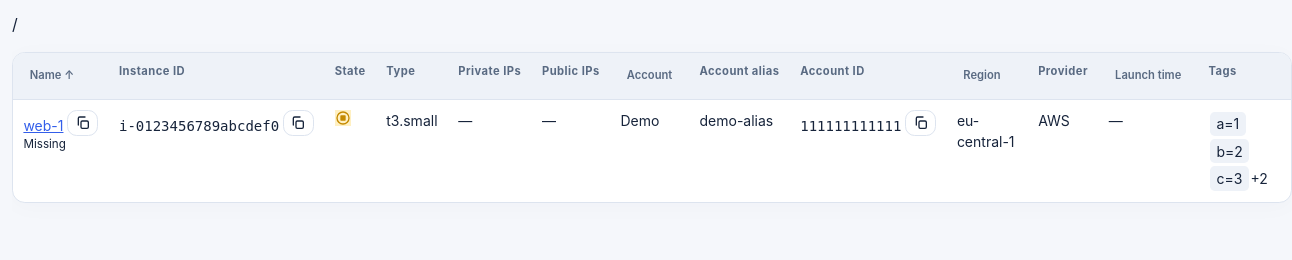
it: copy success=false keeps row navigation untouched
The width and height of the screenshot is (1292, 260).
Click the button named "Copy i-0123456789abcdef0".
click(298, 123)  # box [283,110,314,136]
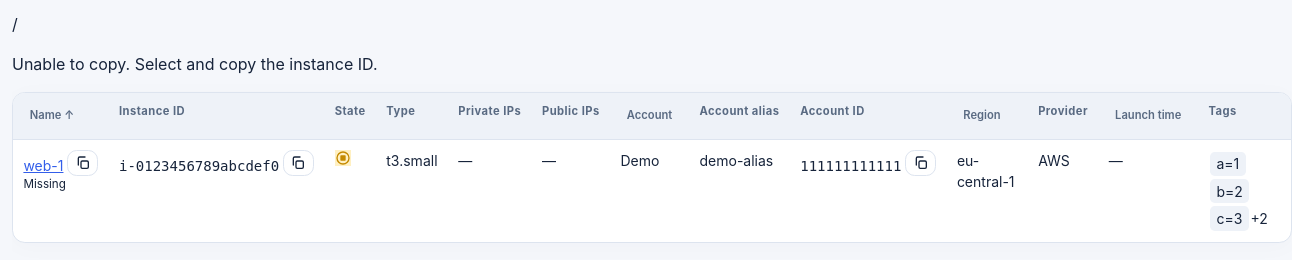
Expected: the text named "Location" reads "/", [12,14,18,34]
Now the text "Unable to copy. Select and copy the instance ID." is shown, box [12,54,378,74]
